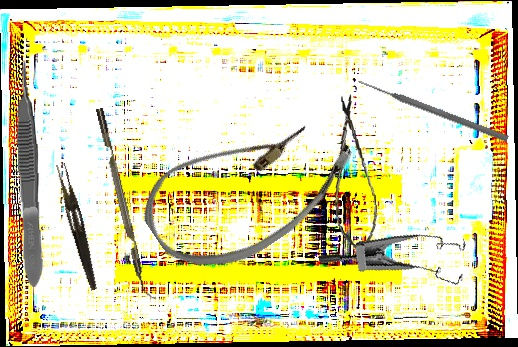Cannula: (128, 80, 370, 296)
Chopper: (95, 105, 158, 303)
Dressing Forceps: (51, 162, 104, 292)
Micro Scissor: (323, 91, 383, 264)
Pusher: (356, 76, 510, 144)
Speculum: (317, 209, 477, 324)
Tissue Forceps: (14, 58, 45, 288)
